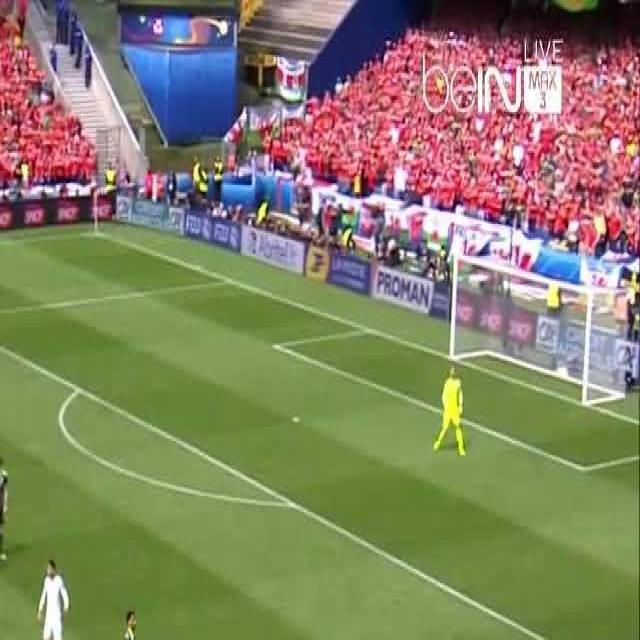player-white: (433, 366, 465, 456), (37, 558, 69, 640), (0, 456, 7, 564), (122, 609, 143, 640)
